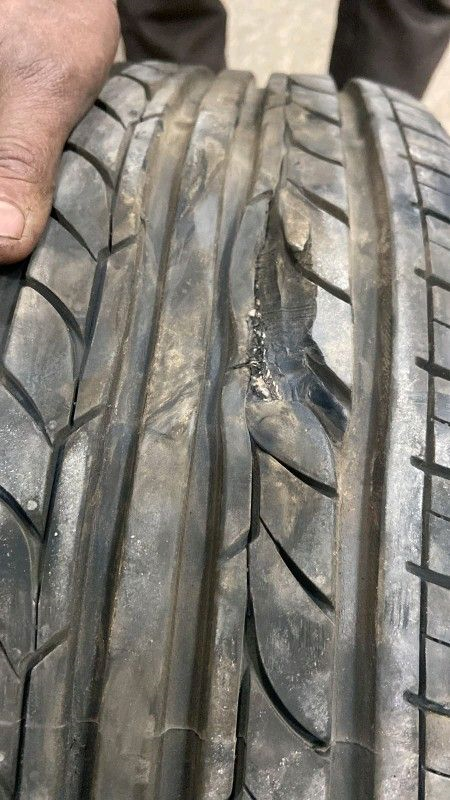tr: (239, 189, 347, 430)
